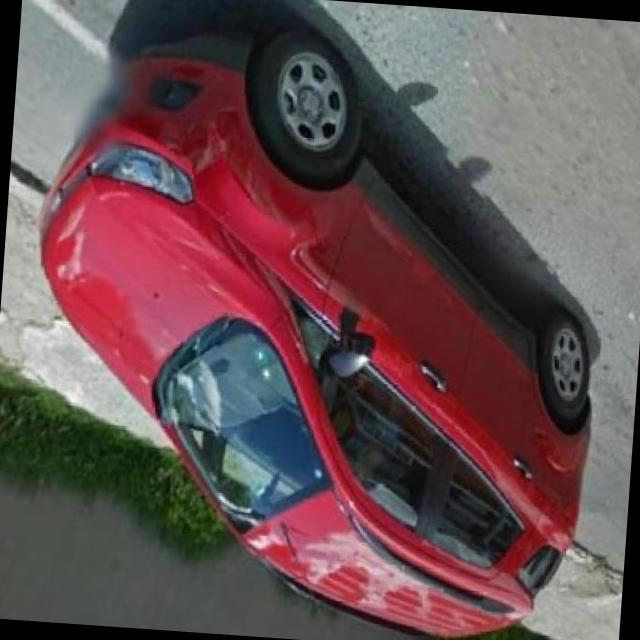car: (9, 0, 624, 639)
